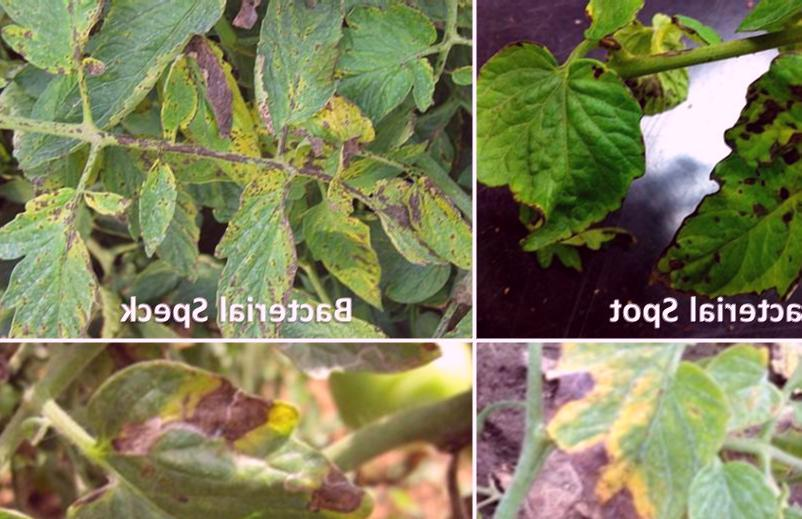Tomato Early blight leaf: (531, 353, 802, 519)
Tomato leaf bacterial spot: (479, 49, 674, 280), (655, 51, 802, 319), (28, 0, 224, 175), (0, 177, 139, 330), (208, 145, 315, 333), (244, 0, 358, 151), (119, 138, 190, 255), (154, 45, 205, 136)
